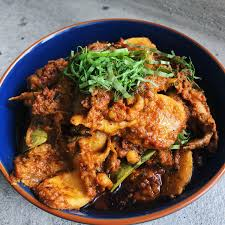rendang: (13, 38, 219, 220)
